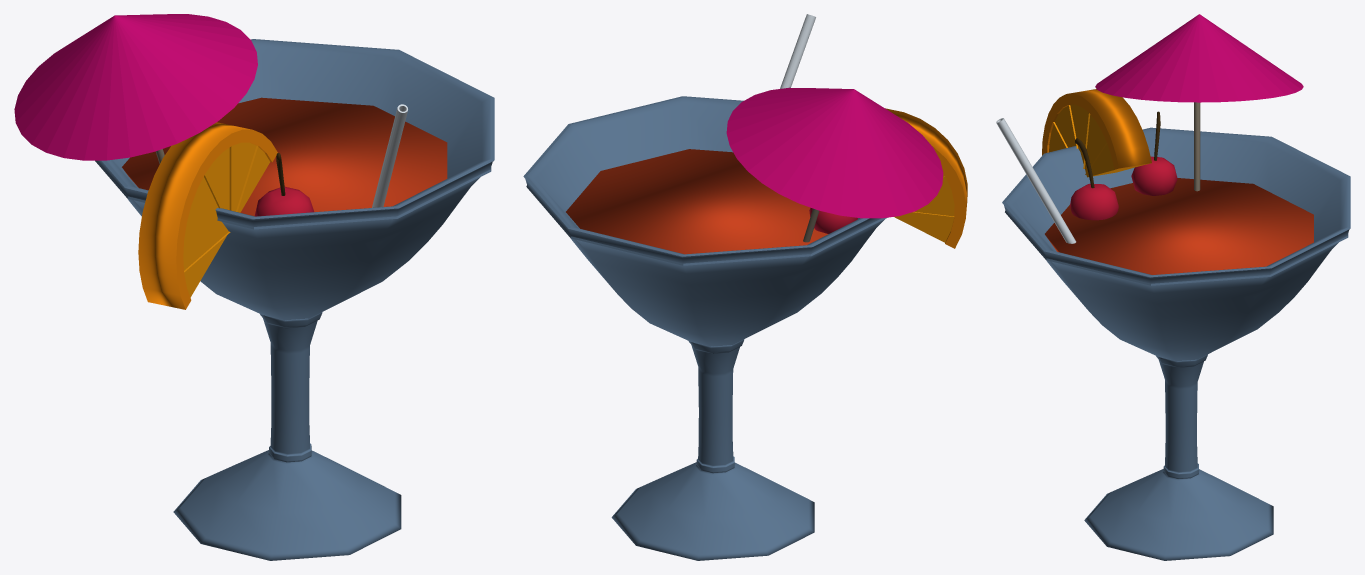
Rendered from midterm.fbx.
The picture shows the model from 3 angles, left to right: view 1: azimuth 30°, elevation 25°; view 2: azimuth 150°, elevation 25°; view 3: azimuth 270°, elevation 25°; orthographic projection. The views are drawn at different scales.
Visible parts, largest first — view 1: glass, umbrellatop, drink, orangerind, orangecenter, cherry2, straw; view 2: glass, umbrellatop, drink, orangerind, orangecenter, straw, cherry; view 3: glass, drink, umbrellatop, orangerind, orangecenter, cherry2, straw, cherry, umbrellastick.
Boxes of the visible parts, <box> form: glass: <box>95,39,494,560</box>; umbrellatop: <box>14,14,257,160</box>; drink: <box>122,97,447,216</box>; orangerind: <box>138,122,277,309</box>; orangecenter: <box>183,142,269,297</box>; cherry2: <box>254,186,314,216</box>; straw: <box>372,104,407,207</box>; glass: <box>523,96,887,560</box>; umbrellatop: <box>726,87,943,218</box>; drink: <box>566,149,828,254</box>; orangerind: <box>885,108,967,248</box>; orangecenter: <box>894,174,954,242</box>; straw: <box>780,14,815,88</box>; cherry: <box>809,208,857,233</box>; glass: <box>1002,127,1350,560</box>; drink: <box>1045,178,1313,274</box>; umbrellatop: <box>1095,14,1303,102</box>; orangerind: <box>1042,89,1151,169</box>; orangecenter: <box>1049,104,1143,177</box>; cherry2: <box>1070,183,1118,220</box>; straw: <box>996,118,1076,243</box>; cherry: <box>1131,156,1177,195</box>; umbrellastick: <box>1194,102,1200,191</box>.
Size of the model in its own units: 338 by 395 by 289.
